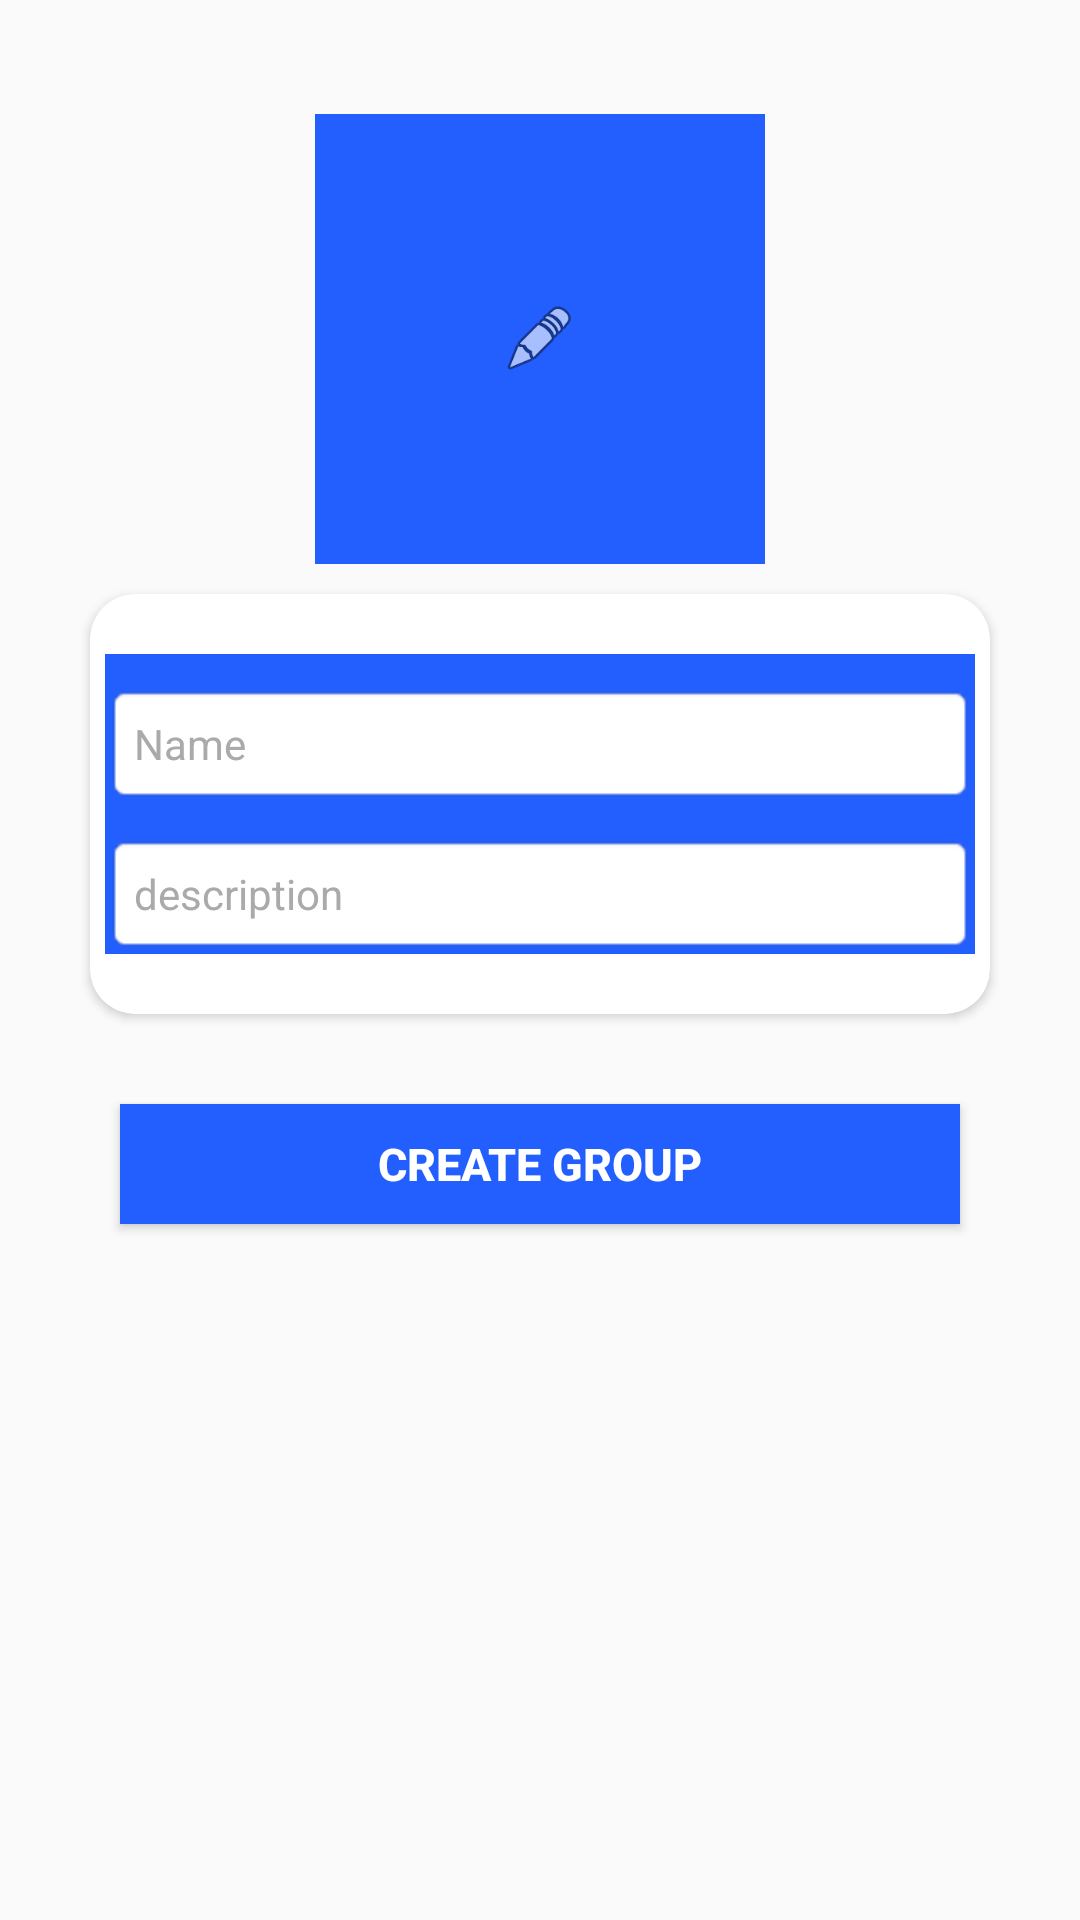

Locate icon controls on the screen. Image size 1080x1920, boxes as [x1,y1,x2,y2].
edit: [507,306,571,370]
